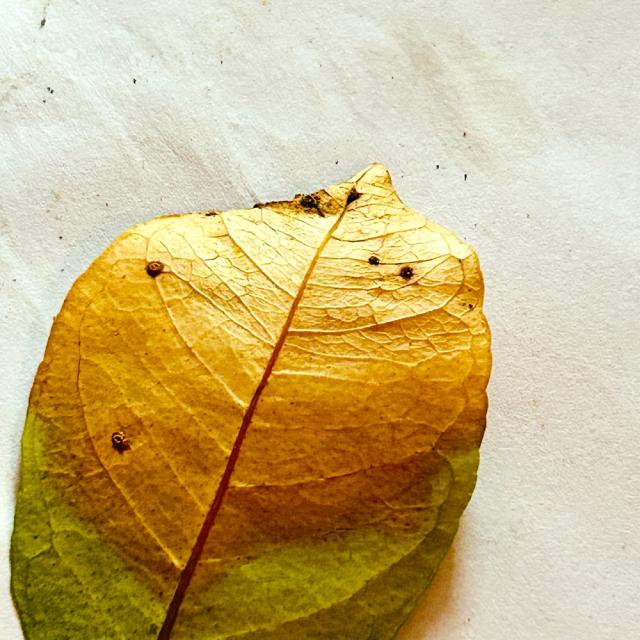DryLeaf_Lemon: (16, 164, 491, 604)
